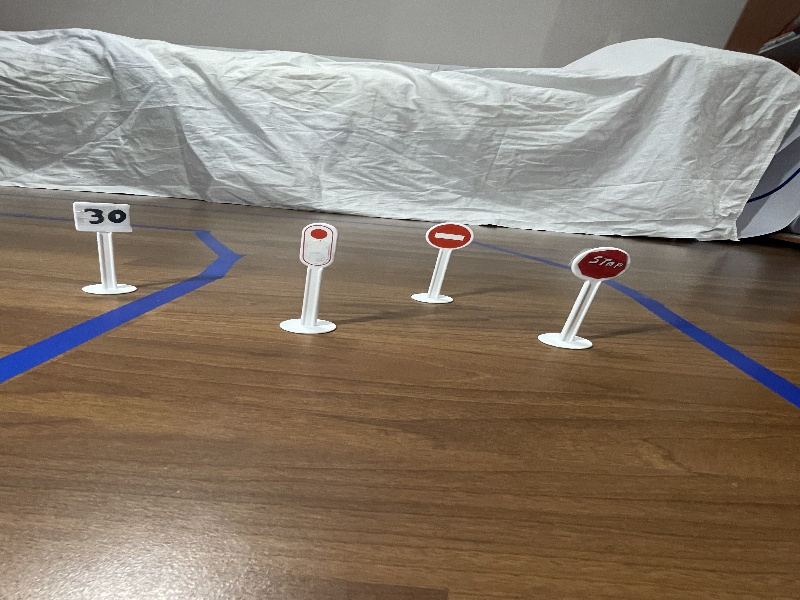interzis: (424, 221, 477, 274)
semafor_rosu: (283, 213, 349, 279)
stop: (568, 238, 632, 302)
viteza_limita_30: (59, 164, 137, 242)
